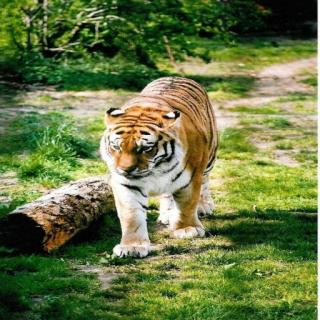Tiger: (83, 62, 236, 272)
